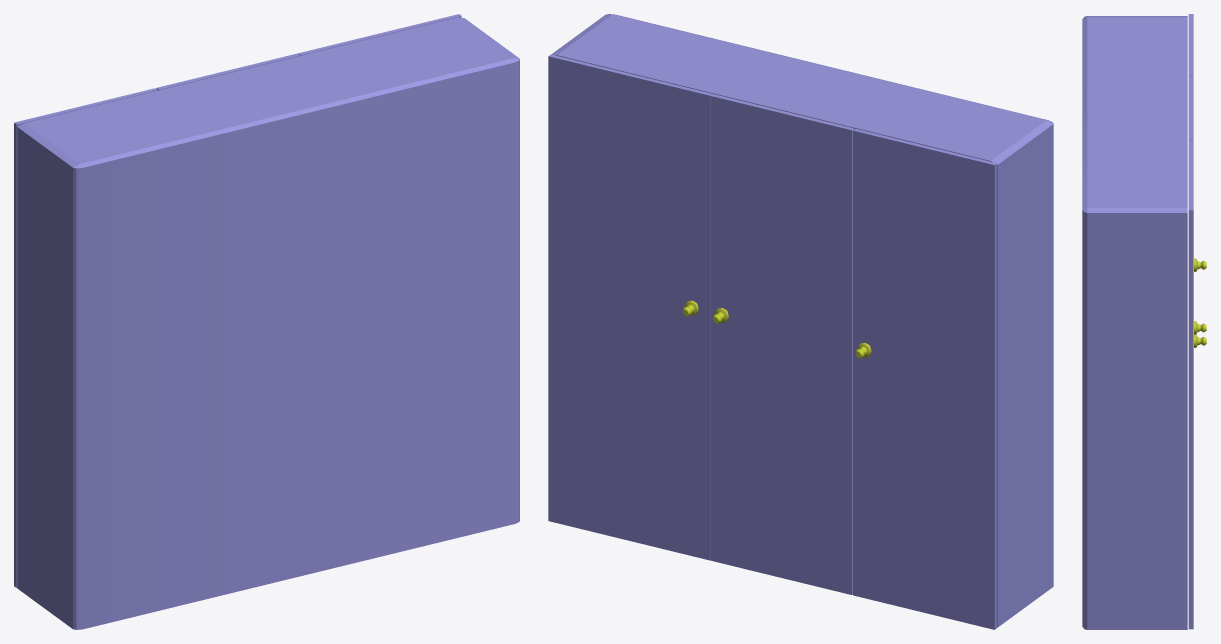
Rendered from Prop_closet.FBX.
3 views of the same model, side by side, from view 1: azimuth 30°, elevation 25°; view 2: azimuth 150°, elevation 25°; view 3: azimuth 270°, elevation 25° (orthographic). The views are drawn at different scales.
Parts seen in each view (by area): view 1: Prop_closet1, Prop_closet2; view 2: Prop_closet4, Prop_closet2, Prop_closet3, Prop_closet1; view 3: Prop_closet1, Prop_closet4, Prop_closet3, Prop_closet2.
Part boxes in pixels (x1,y1,x2,y2): Prop_closet1: (17,17,519,629); Prop_closet2: (14,88,157,587); Prop_closet4: (548,54,712,560); Prop_closet2: (853,129,997,629); Prop_closet3: (710,94,854,594); Prop_closet1: (551,14,1053,627); Prop_closet1: (1082,16,1187,629); Prop_closet4: (1188,139,1193,629); Prop_closet3: (1188,76,1193,139); Prop_closet2: (1188,14,1193,76).
Bounding box in the file's own units: 73.85 × 19.65 × 73.19.
